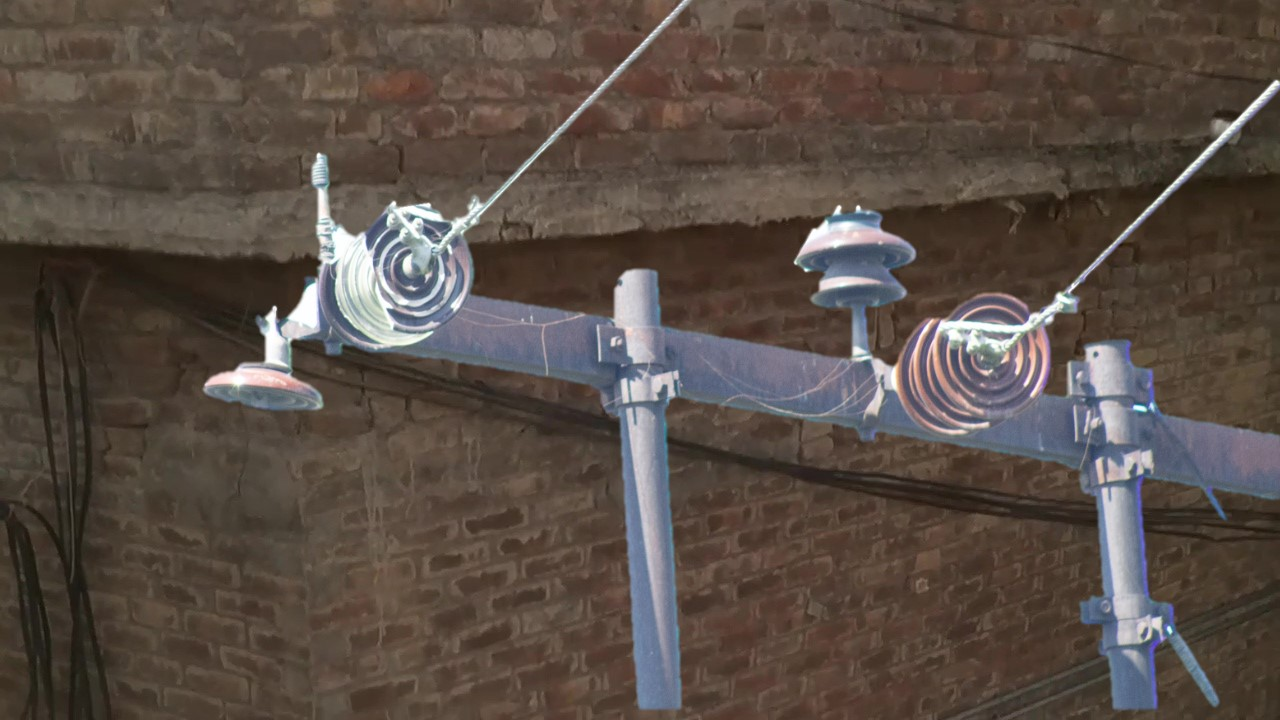defect_disc: (362, 196, 481, 336)
insulator_disc: (929, 286, 1053, 420), (195, 338, 327, 421)
